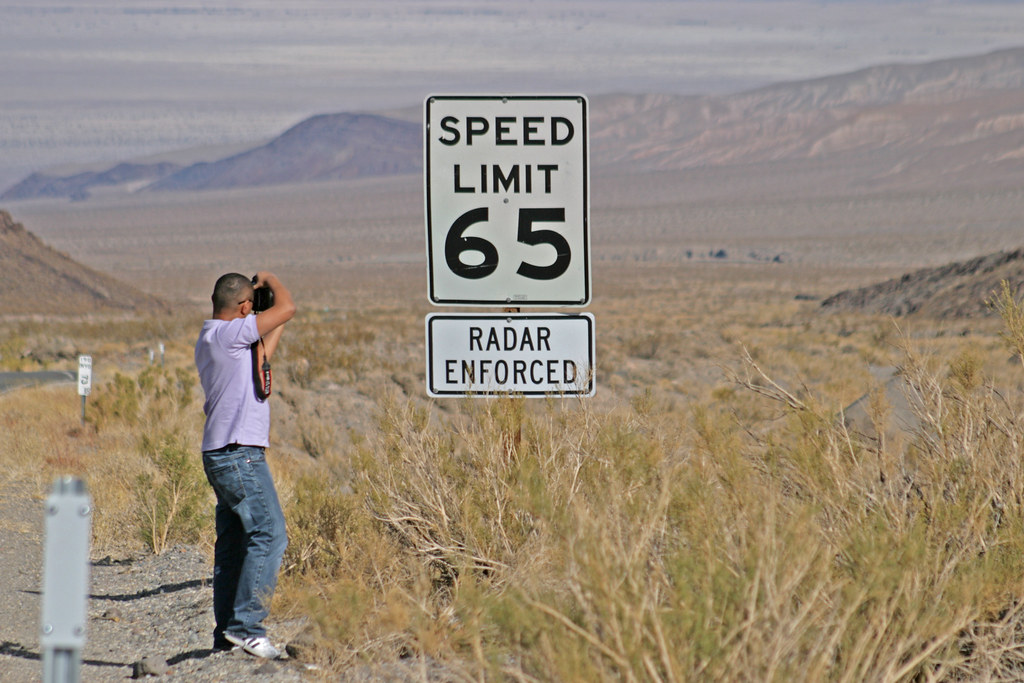speed limit: (404, 87, 616, 310)
